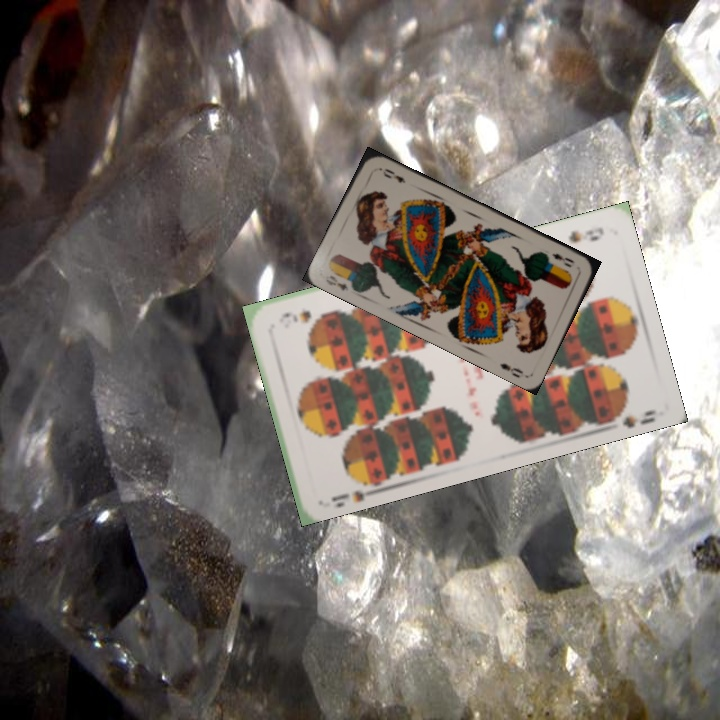EO: (321, 271, 351, 294), (548, 249, 578, 270)
S9: (327, 472, 378, 508), (564, 223, 607, 246)
